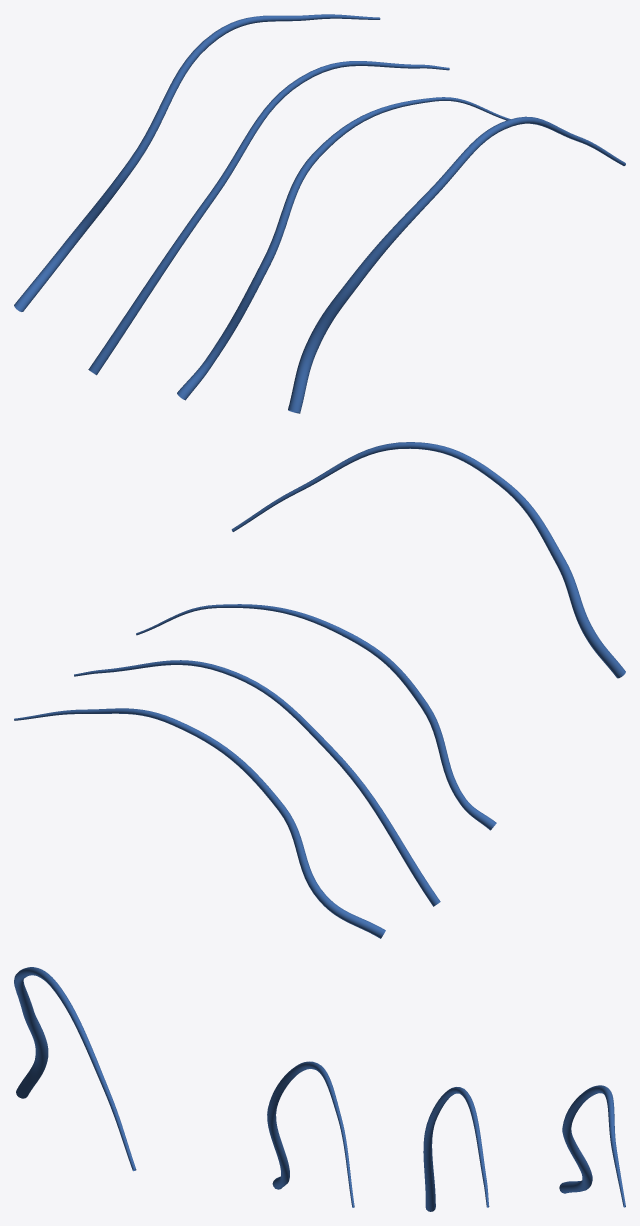
3 renders of one model, top to bottom at view 1: azimuth 30°, elevation 25°; view 2: azimuth 150°, elevation 25°; view 3: azimuth 270°, elevation 25°, orthographic. The views are drawn at different scales.
Parts seen in each view (by area): view 1: 左侧腰静脉; view 2: 左侧腰静脉; view 3: 左侧腰静脉.
Boxes of the visible parts, x1,y1,x2,y2 form: 左侧腰静脉: [14, 14, 625, 413]; 左侧腰静脉: [14, 442, 625, 938]; 左侧腰静脉: [14, 967, 625, 1211].
Size of the model in its own units: 0.1038 by 0.085 by 0.1404.
